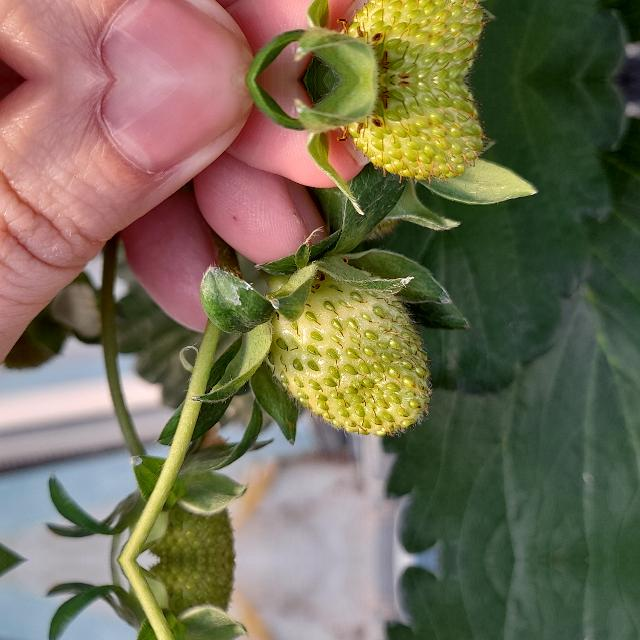Health_25: (265, 273, 433, 437)
